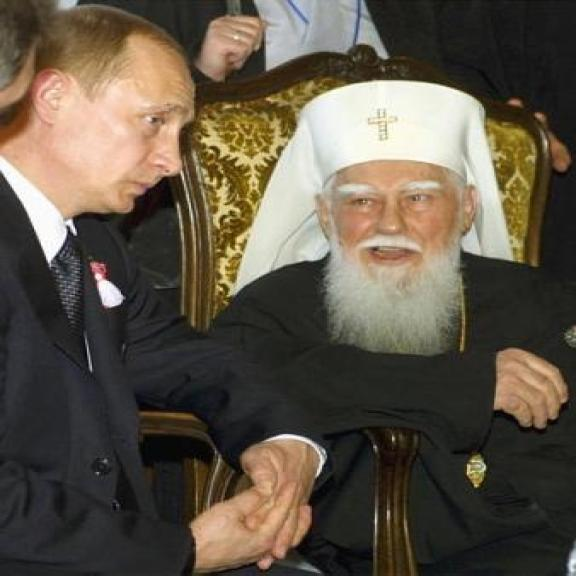face: (30, 31, 201, 222), (312, 164, 484, 311)
